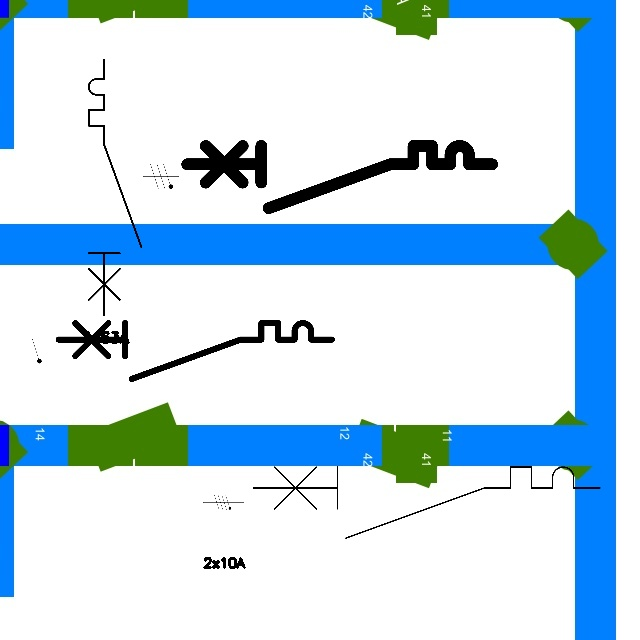interruptor_termomagnetico: (244, 458, 609, 547), (179, 138, 500, 216), (51, 316, 338, 386), (82, 53, 148, 322)
